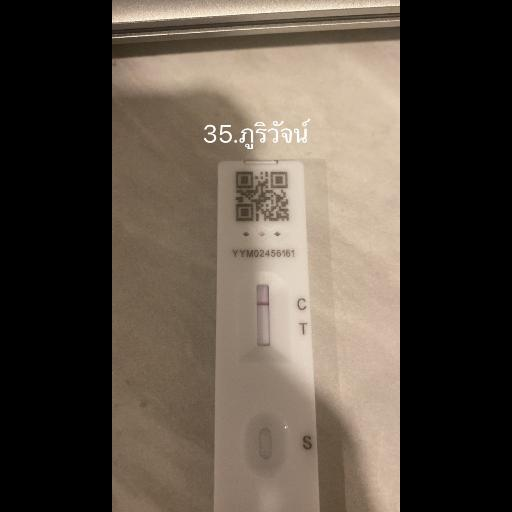Neg: (217, 157, 321, 509)
